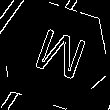M_S: (24, 23, 86, 87)
